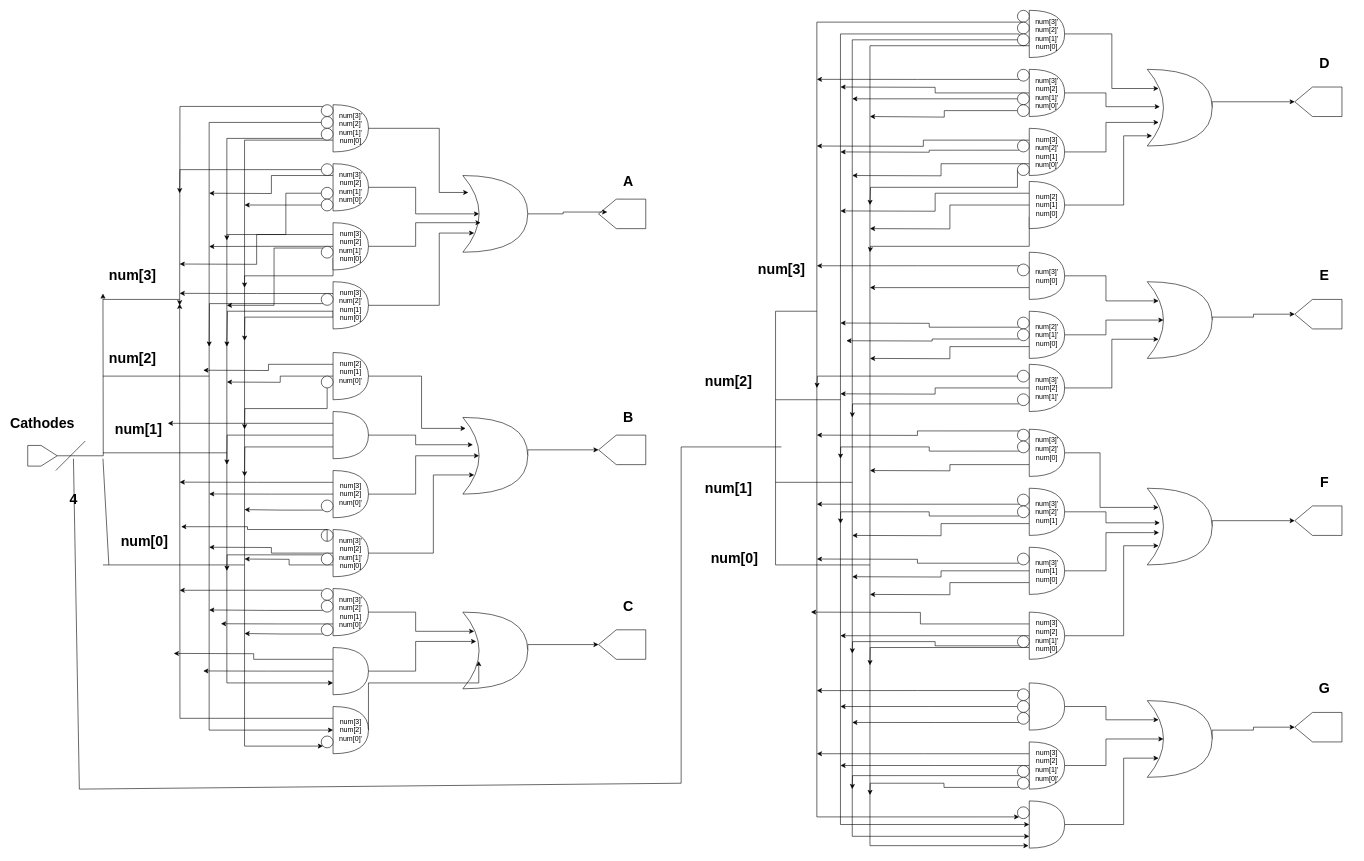
Image size: 1364x861. Some labels were removed from this diagram. The shapes that lost their labels are listed below. From the top down, each one's centre as x and y in pixels, then its label:
At [350,435]: "num[3] num[1] num[0]".
At [350,671]: "num[3] num[2] num[1]".
At [1047,706]: "num[3]' num[2]' num[1]'".
At [1047,824]: "num[3]' num[2] num[1] num[0]".
